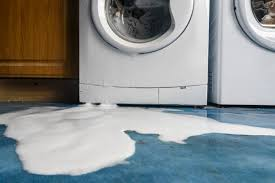Wet-floor: (6, 104, 274, 173)
